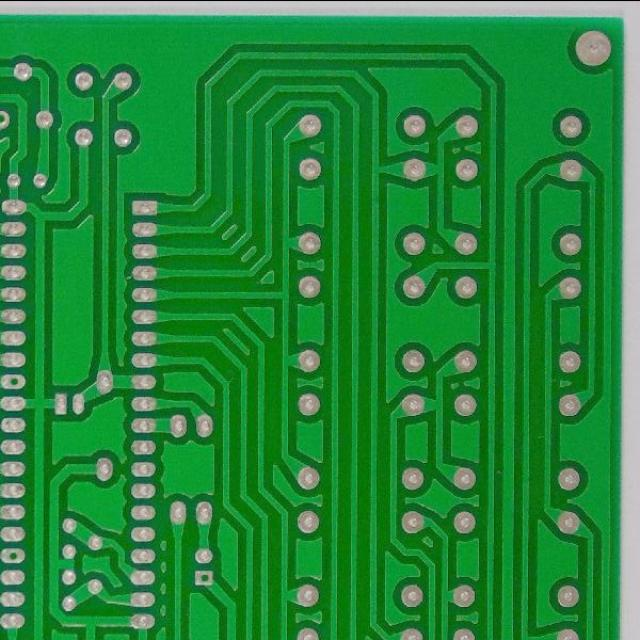Missing_Hole: (1, 544, 27, 566), (1, 370, 27, 392), (193, 566, 217, 588), (0, 109, 12, 131)
